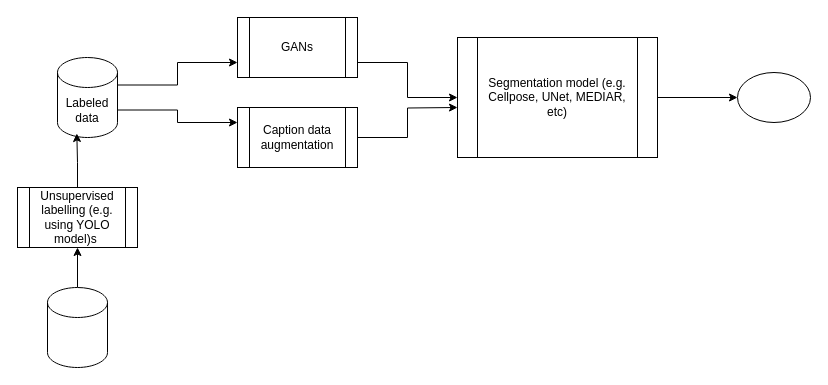
The diagram is 828 pixels wide and 385 high, and some of its shapes have lost their labels. Here are the shapes that lost their labels. From the top down, the centre of each, then its label:
[773,97]: Model testing
[77,327]: Unlabeled data
